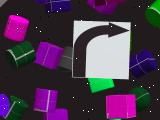Right: (72, 21, 131, 80)
